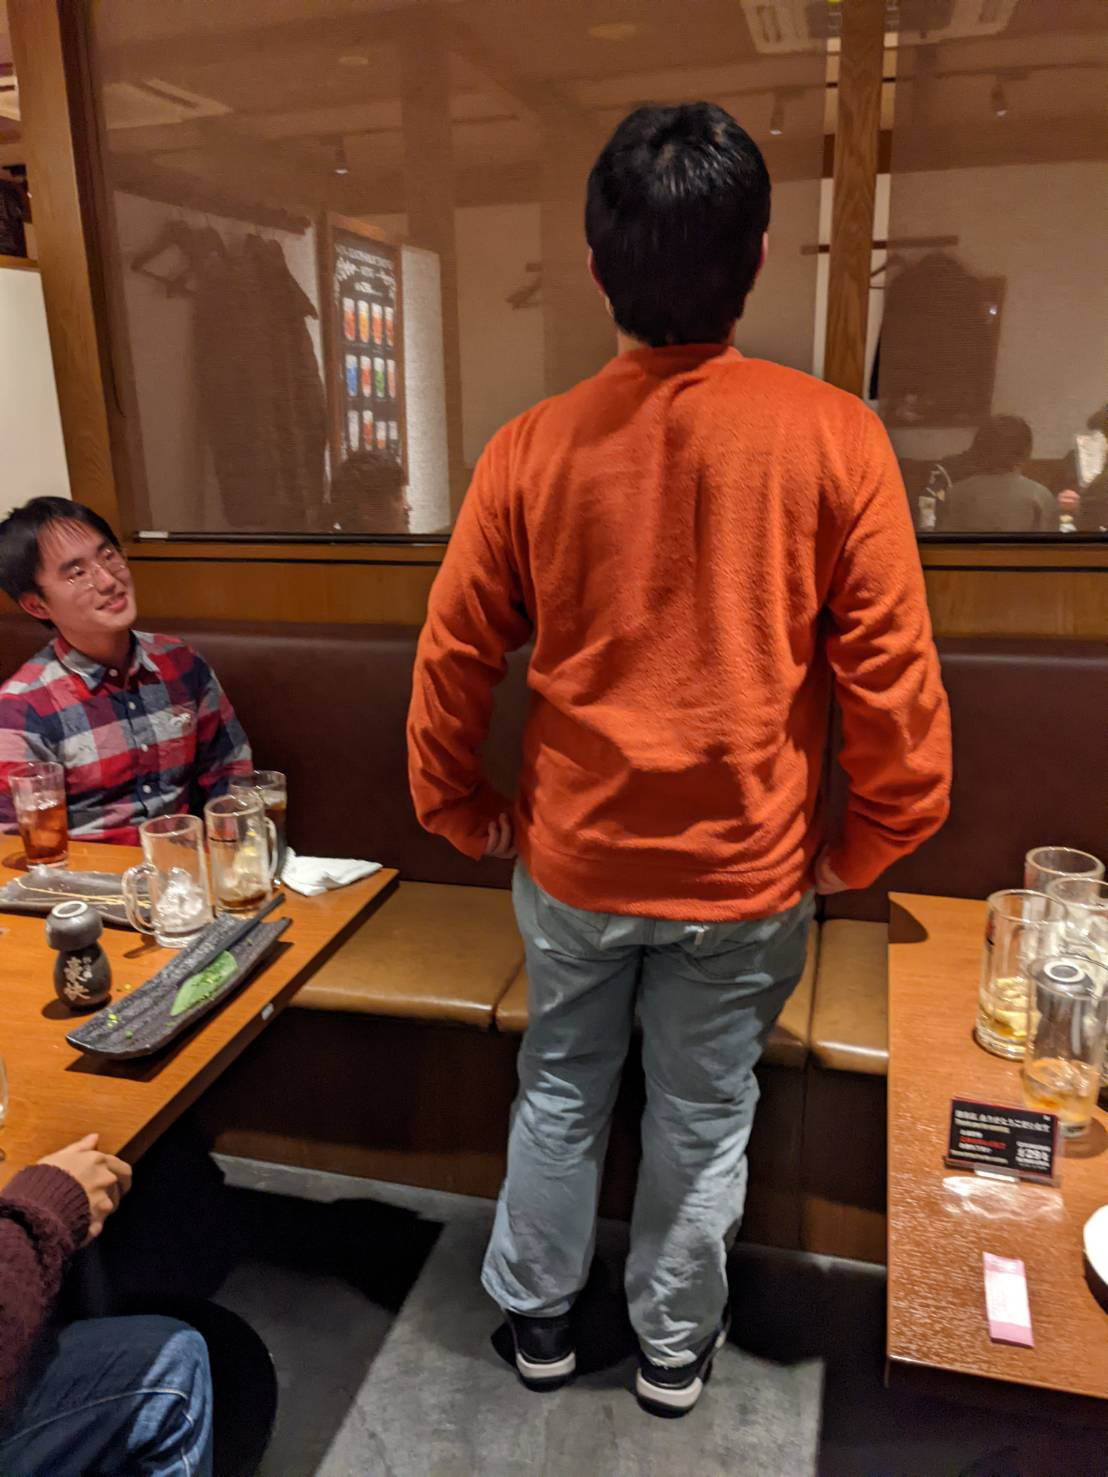male: (396, 95, 956, 1421), (1, 489, 265, 836)
